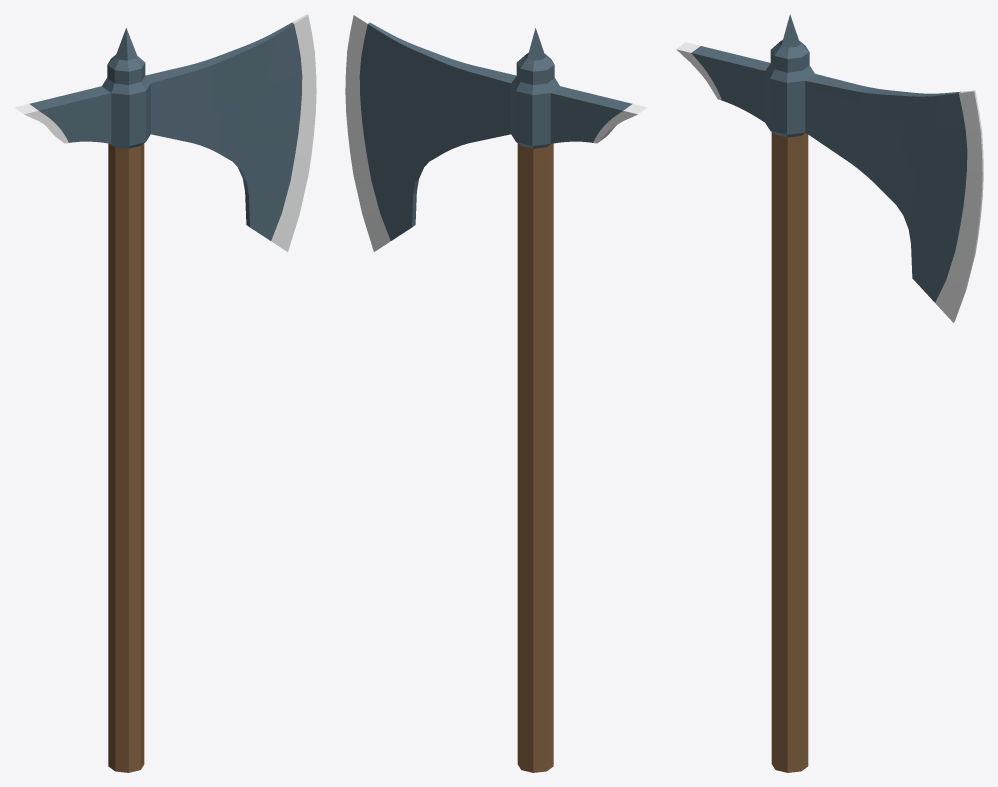
File: one_handed_axe_1.fbx
The picture shows the model from 3 angles, left to right: view 1: azimuth 30°, elevation 25°; view 2: azimuth 150°, elevation 25°; view 3: azimuth 330°, elevation 25°; orthographic projection.
Visible parts, largest first — view 1: one_handed_axe_1; view 2: one_handed_axe_1; view 3: one_handed_axe_1.
Part boxes in pixels (box(x1,y1,x2,y2)): one_handed_axe_1: box(14, 14, 316, 772); one_handed_axe_1: box(345, 14, 647, 772); one_handed_axe_1: box(676, 14, 983, 772).
Bounding box in the file's own units: 0.5006 × 1.19 × 0.0667.
Materials: 1 (1 with a texture image).
